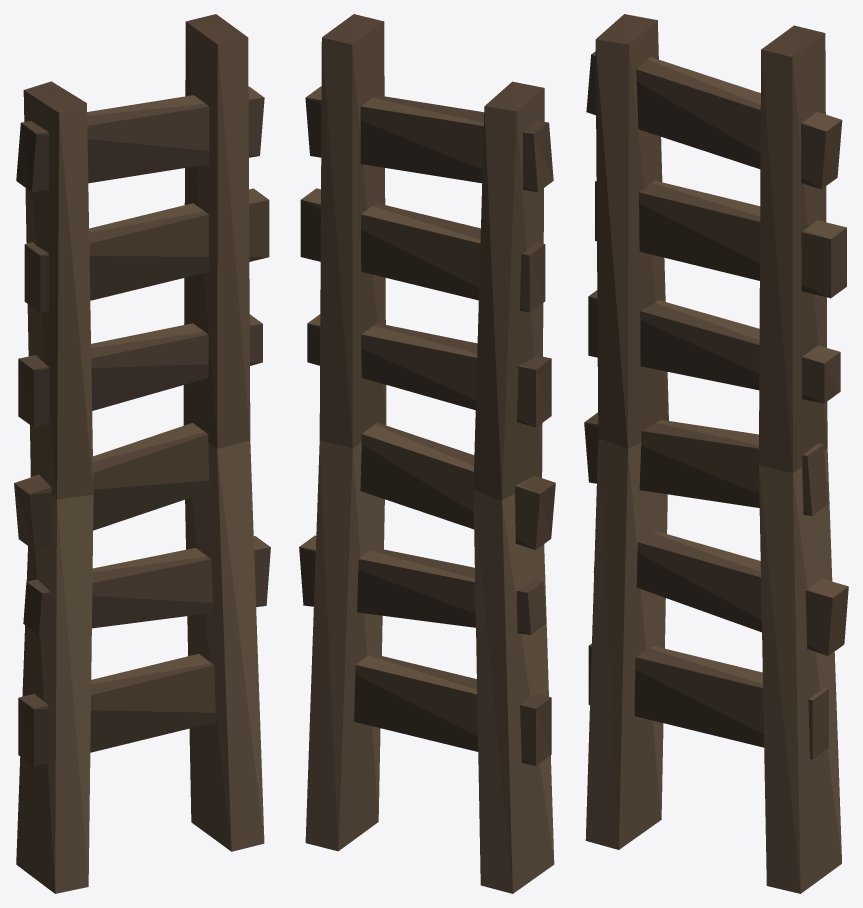
The model's file is prop_decor_ladder.fbx.
3 renders of one model, left to right at view 1: azimuth 30°, elevation 25°; view 2: azimuth 150°, elevation 25°; view 3: azimuth 330°, elevation 25°, orthographic. The views are drawn at different scales.
Visible parts, largest first — view 1: prop_decor_ladder; view 2: prop_decor_ladder; view 3: prop_decor_ladder.
Part boxes in pixels (x1,y1,x2,y2): prop_decor_ladder: [14, 14, 270, 893]; prop_decor_ladder: [299, 14, 555, 893]; prop_decor_ladder: [584, 14, 848, 893].
Size of the model in its own units: 0.9567 by 3.05 by 0.2806.
